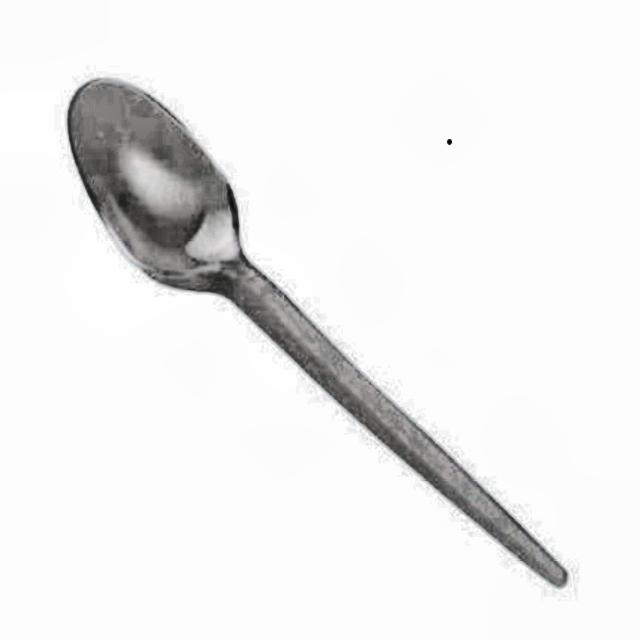plastic utensil: (67, 77, 576, 595)
